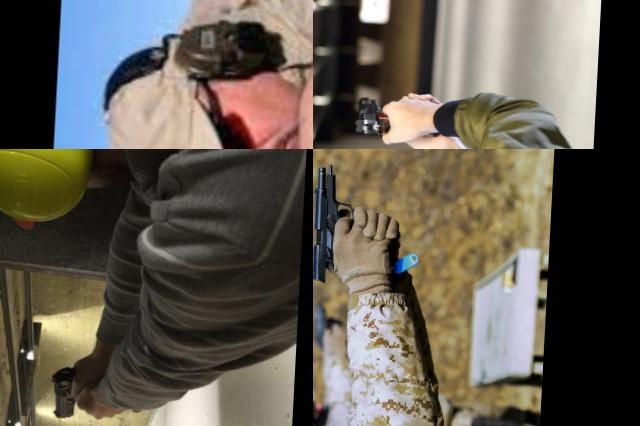handgun: (313, 158, 367, 287), (46, 360, 98, 422), (351, 92, 400, 139)
